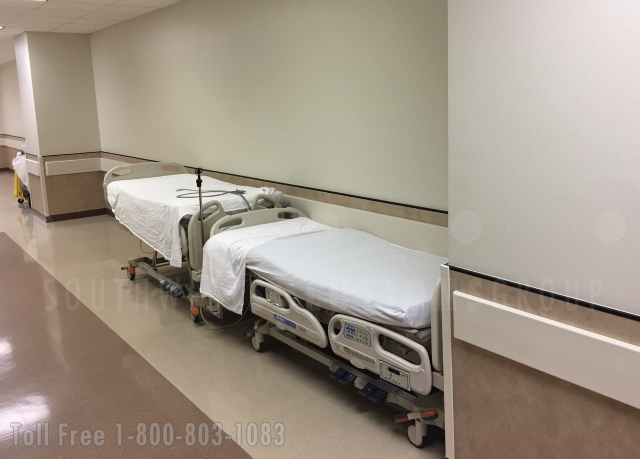trolley_bed: (190, 205, 445, 448), (96, 152, 293, 327)
